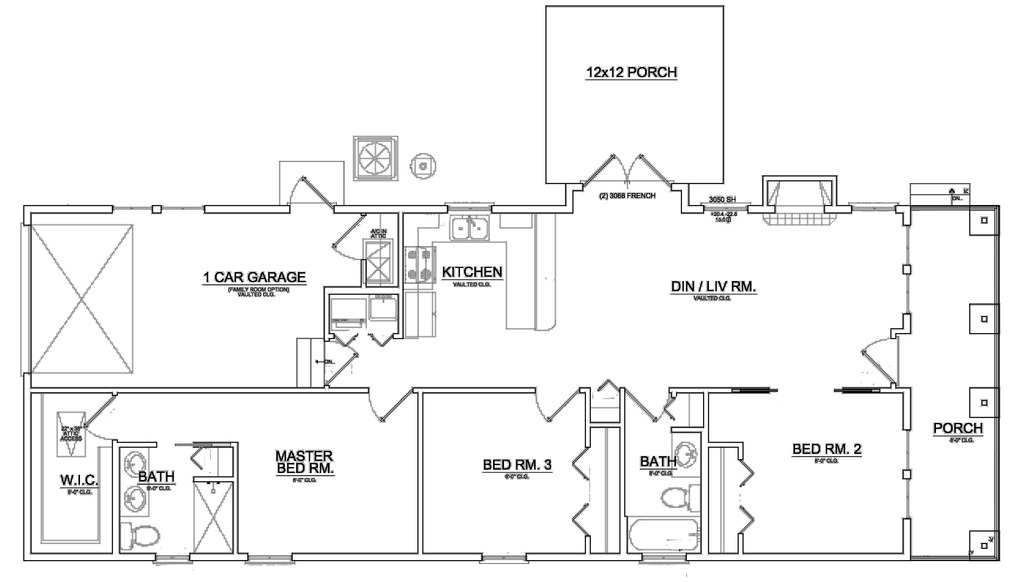door: (577, 149, 671, 192), (857, 330, 911, 388), (284, 176, 339, 217), (620, 382, 673, 423), (331, 212, 372, 262), (319, 336, 358, 386), (534, 381, 578, 425), (368, 385, 416, 424), (82, 391, 122, 437)
large_sink: (663, 483, 706, 515), (114, 524, 163, 551)
small_sink: (119, 453, 156, 517), (665, 429, 701, 475)
tub: (623, 516, 702, 550)
twin_sink: (450, 210, 489, 245)
window: (239, 549, 294, 567), (477, 549, 528, 568), (148, 553, 194, 566)
